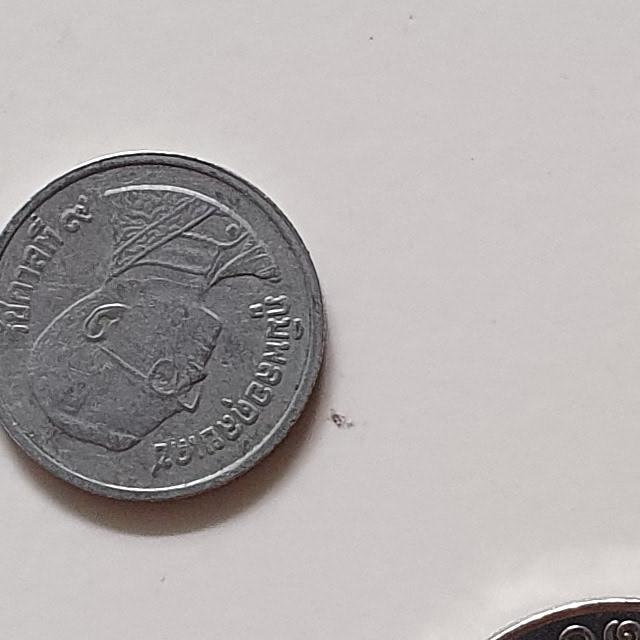1 Bath: (1, 138, 336, 515)
10 Bath: (454, 595, 640, 640)
